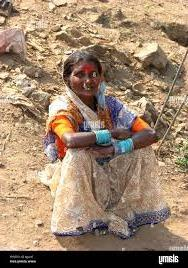Human: (38, 36, 171, 252)
